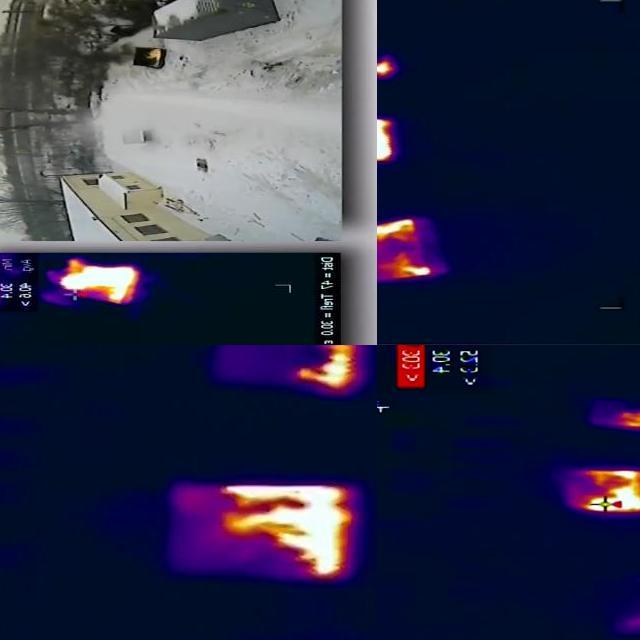fire: (219, 483, 356, 577), (61, 262, 139, 304), (295, 346, 361, 394), (577, 467, 640, 516), (378, 217, 422, 245), (379, 259, 435, 281), (376, 114, 396, 164), (613, 410, 640, 430), (378, 56, 399, 78)
